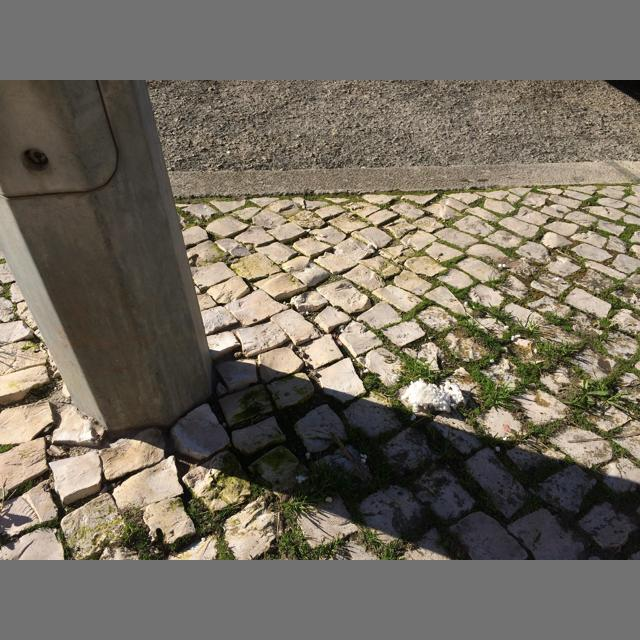litter: (401, 378, 467, 413)
